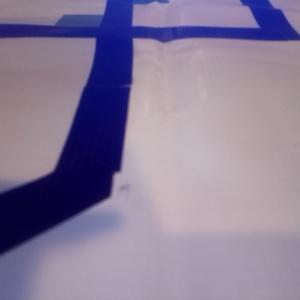bottom_right: (107, 1, 168, 3)
top_left: (55, 15, 132, 38)
